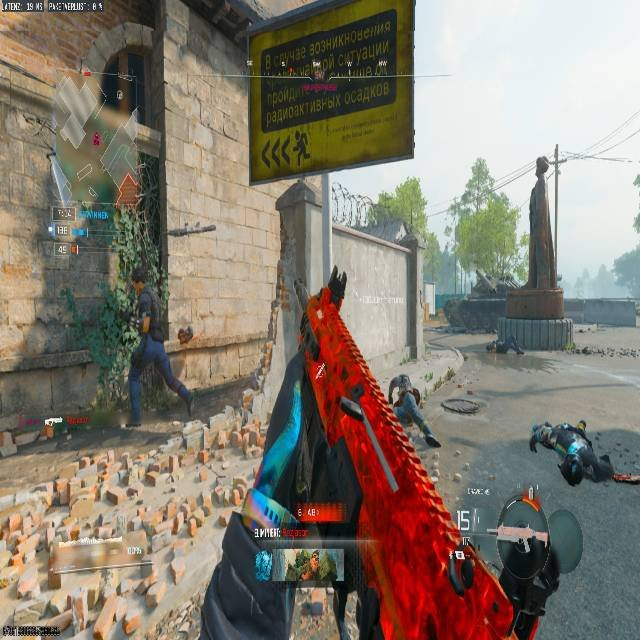head: (558, 453, 585, 485)
player: (125, 272, 193, 415), (387, 375, 440, 450)
